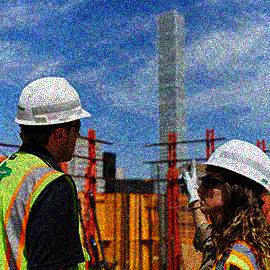helmet: (15, 75, 92, 163), (195, 139, 270, 212)
